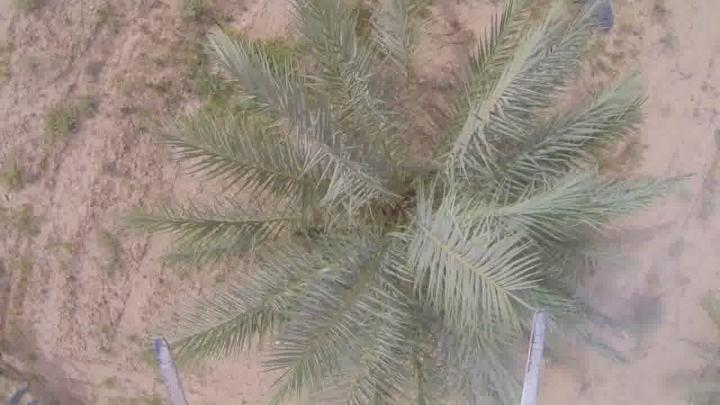Date-Palm-Crown: (274, 103, 548, 341)
